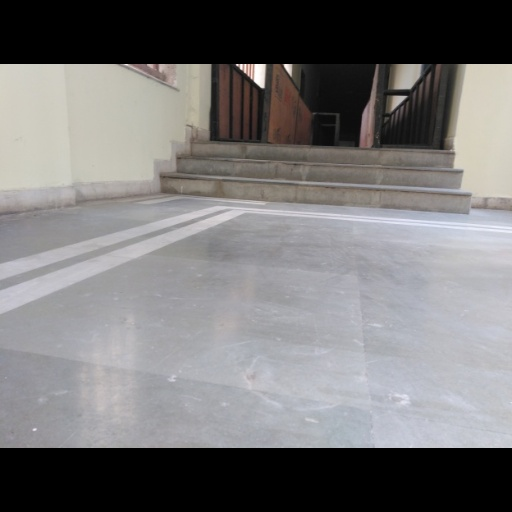Stairs: (161, 142, 471, 213)
